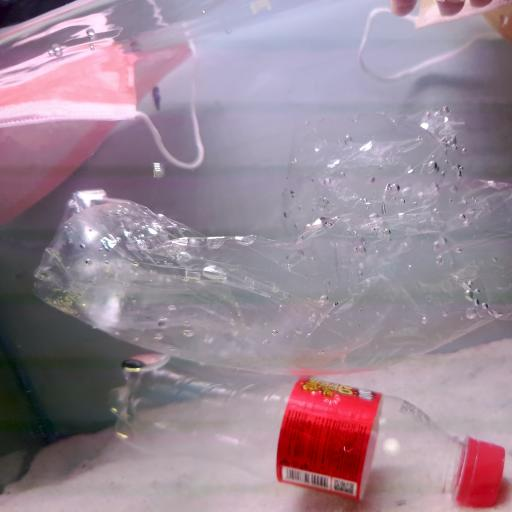bottle_cap: (452, 432, 510, 509)
mask: (0, 39, 223, 210), (349, 0, 512, 90)
plastic_bag: (42, 109, 512, 354)
plastic_bottle: (112, 348, 512, 512)
